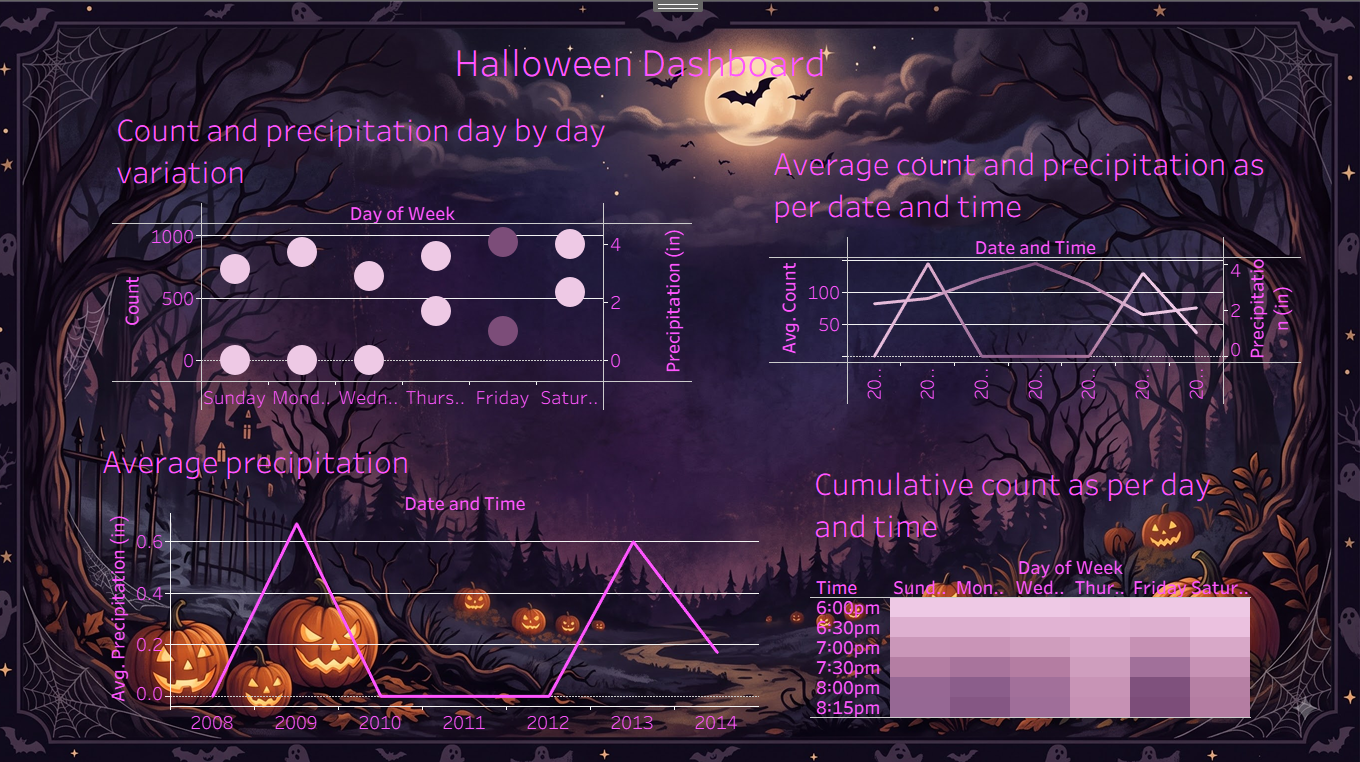

Layout of this report page (visuals, bound fields, positions):
{"tool":"tableau","page":{"name":"Dashboard 1","canvas":[1000,1000],"units":"permille","ordinal":0},"visuals":[{"type":"title","box":[282.5,57.1,260.1,64.5]},{"type":"worksheet","title":"Sheet 4","mark":"Automatic","rows":["Count","Precipitation (in)"],"cols":["Day of Week"],"box":[71.7,141.4,362.2,380.9]},{"type":"worksheet","title":"Sheet 3","mark":"Automatic","rows":["Count","Precipitation (in)"],"cols":["Date and Time"],"box":[481.3,183.6,332.9,332.5]},{"type":"worksheet","title":"Sheet 1","mark":"Automatic","rows":["Precipitation (in)"],"cols":["Date and Time"],"box":[62.9,553.4,411.9,371]},{"type":"worksheet","title":"Sheet 2","mark":"Automatic","rows":["Time"],"cols":["Day of Week"],"box":[507.2,580.6,316.1,330]}]}

Visuals, with their boxes on the dashboard's canvas, which has no fixed pixel size, in thousandths of its width and height (x1, y1, x2, y2). These are canvas units, not pixel positions in the 1360x762 screenshot, which may show the page scaled, cropped or inside an application window:
title: x1=282 y1=57 x2=543 y2=122
"Sheet 4" worksheet: x1=72 y1=141 x2=434 y2=522
"Sheet 3" worksheet: x1=481 y1=184 x2=814 y2=516
"Sheet 1" worksheet: x1=63 y1=553 x2=475 y2=924
"Sheet 2" worksheet: x1=507 y1=581 x2=823 y2=911
